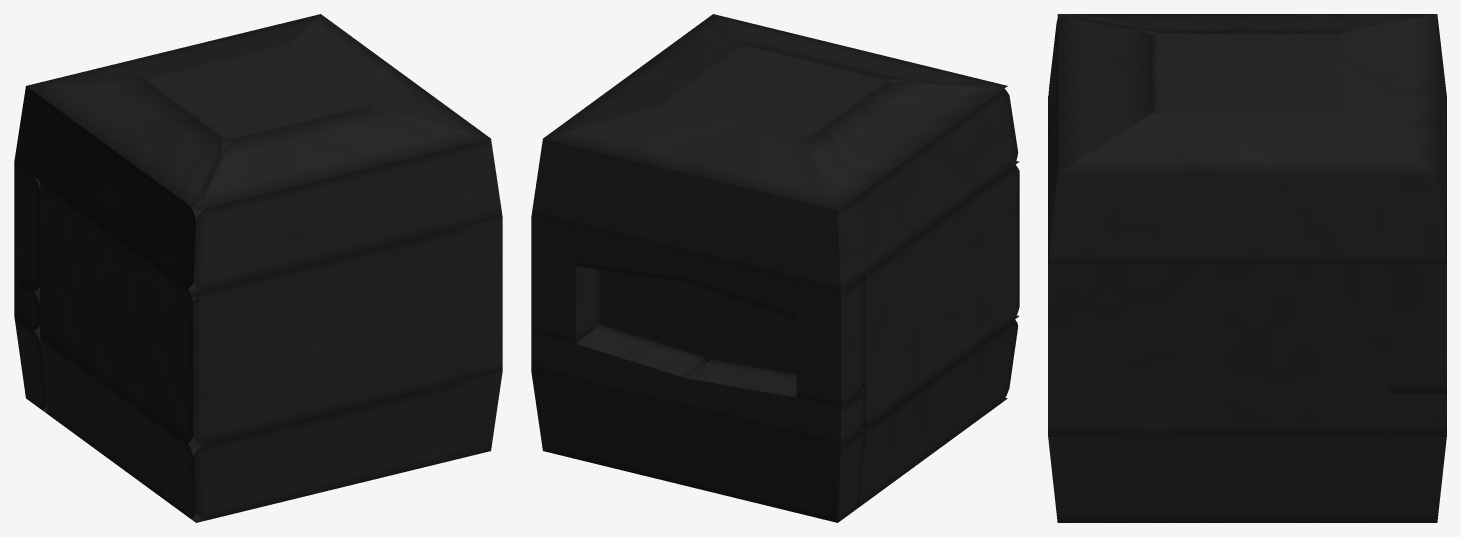
File: balaclava.obj
3 views of the same model, side by side, from view 1: azimuth 30°, elevation 25°; view 2: azimuth 150°, elevation 25°; view 3: azimuth 270°, elevation 25° (orthographic). The views are drawn at different scales.
Visible parts, largest first — view 1: headModel2, headModel1, headModel0, headModel3, headModel7, headModel6, headModel4; view 2: headModel1, headModel0, headModel2, headModel6, headModel3, headModel7, headModel8, headModel9, headModel5, headModel10, headModel11, headModel4 (+1 smaller); view 3: headModel1, headModel2, headModel0, headModel3, headModel8, headModel6, headModel4(Clone).
Part boxes in pixels (x1,y1,x2,y2): headModel2: (40, 181, 502, 446); headModel1: (26, 14, 490, 210); headModel0: (14, 86, 502, 292); headModel3: (40, 297, 502, 522); headModel7: (14, 162, 39, 295); headModel6: (14, 316, 47, 413); headModel4: (14, 278, 39, 334); headModel1: (543, 14, 1007, 210); headModel0: (531, 78, 1019, 292); headModel2: (598, 165, 1019, 427); headModel6: (531, 371, 865, 522); headModel3: (856, 319, 1018, 507); headModel7: (796, 278, 866, 408); headModel8: (531, 217, 600, 343); headModel9: (575, 325, 705, 408); headModel5: (686, 359, 796, 435); headModel10: (575, 228, 685, 281); headModel11: (686, 255, 796, 320); headModel4: (796, 394, 866, 446); headModel1: (1057, 14, 1437, 174); headModel2: (1048, 264, 1389, 436); headModel0: (1048, 14, 1446, 264); headModel3: (1048, 436, 1389, 522); headModel8: (1390, 264, 1446, 393); headModel6: (1390, 436, 1446, 522); headModel4(Clone): (1390, 393, 1446, 436).
Size of the model in its own units: 8.4 by 8.6 by 8.4.
